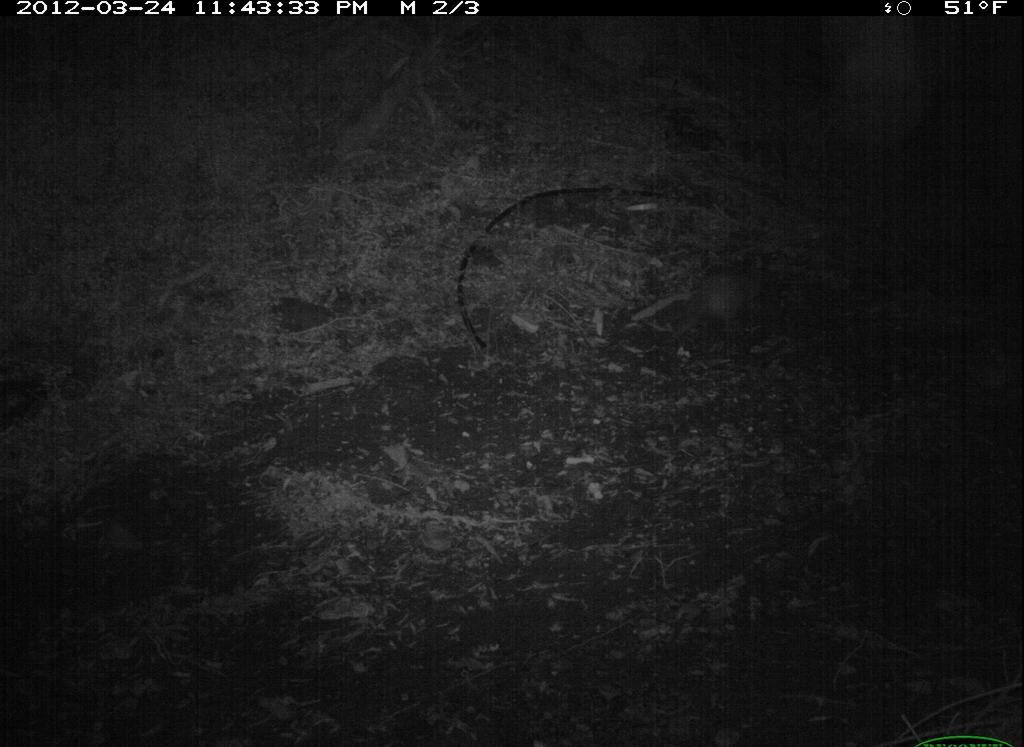opossum: (671, 242, 785, 344)
